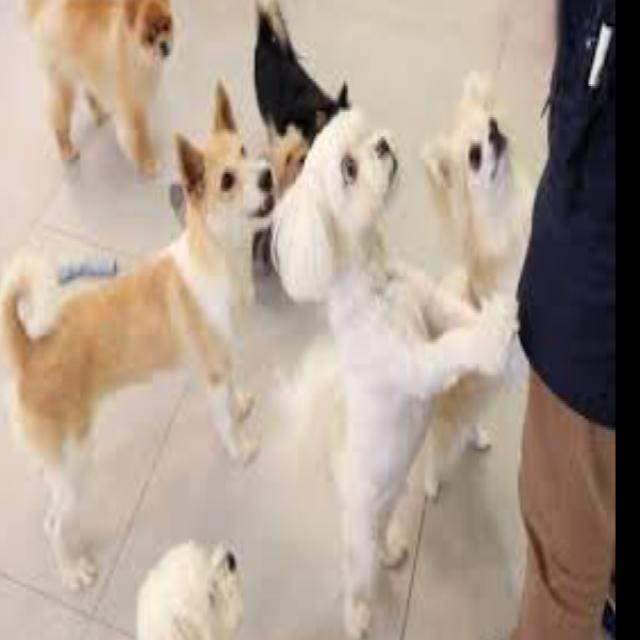dogs: (4, 112, 273, 530), (288, 111, 442, 511)
